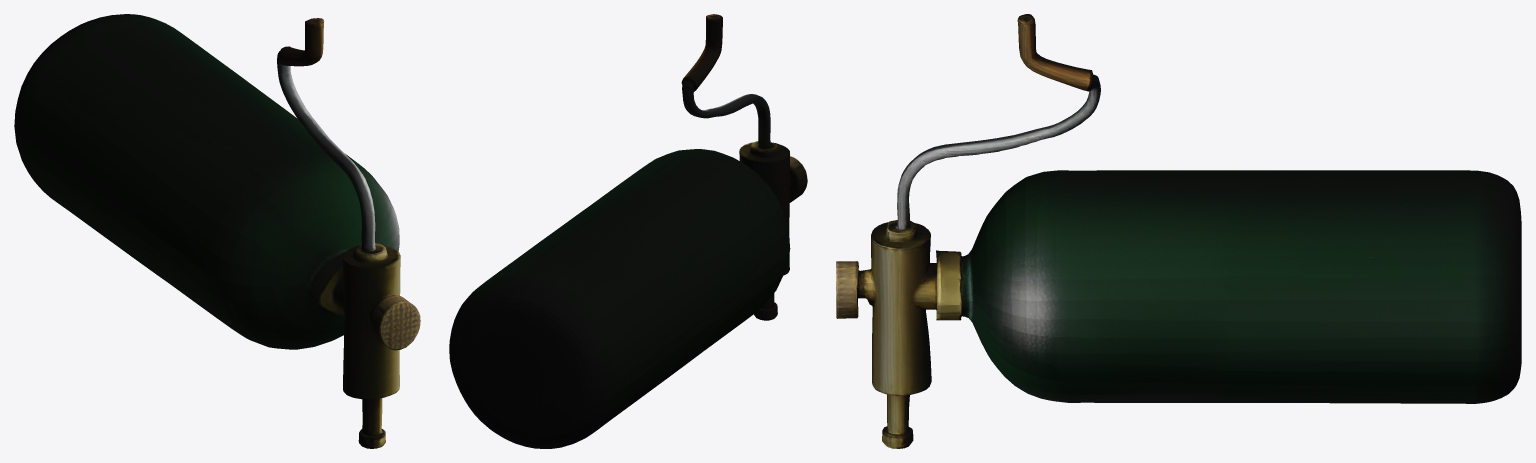
The model's file is Argon.fbx.
The picture shows the model from 3 angles, left to right: view 1: azimuth 30°, elevation 25°; view 2: azimuth 150°, elevation 25°; view 3: azimuth 270°, elevation 25°; orthographic projection. The views are drawn at different scales.
Visible parts, largest first — view 1: geometry_0.001; view 2: geometry_0.001; view 3: geometry_0.001.
Part boxes in pixels (box(x1,y1,x2,y2)): geometry_0.001: box(14, 14, 420, 448); geometry_0.001: box(449, 14, 807, 448); geometry_0.001: box(836, 14, 1521, 448).
Bounding box in the file's own units: 0.1822 × 0.3627 × 0.5295.
Materials: 1 (1 with a texture image).
